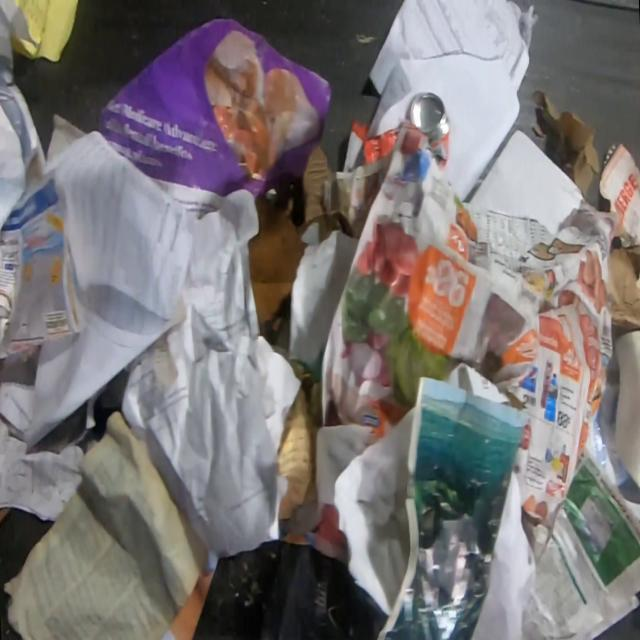cardboard: (247, 196, 310, 327), (530, 89, 601, 197), (608, 242, 640, 330)
metal: (407, 90, 451, 169)
